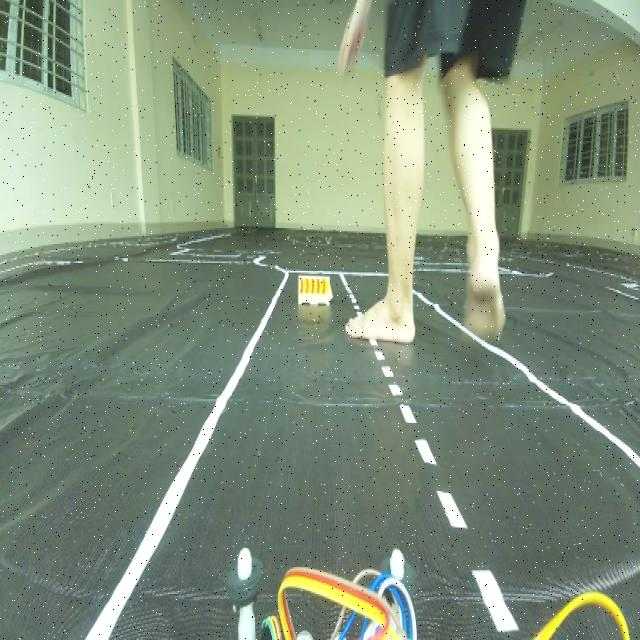roadblock: (295, 263, 339, 312)
